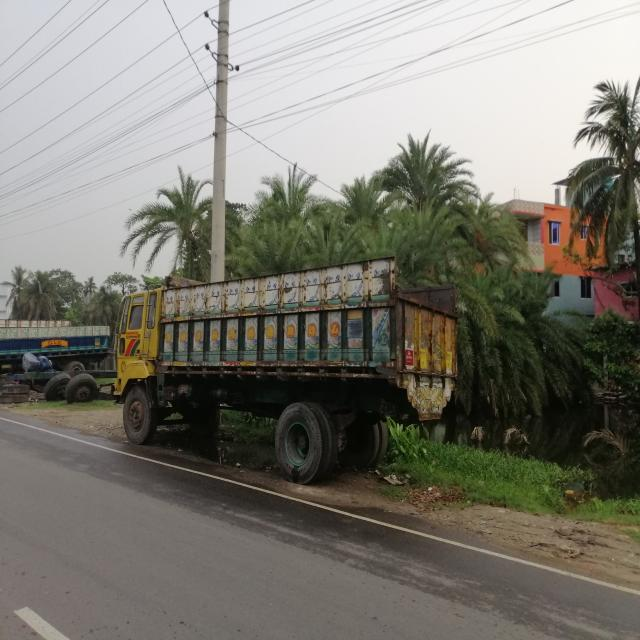Truck: (105, 259, 463, 481)
